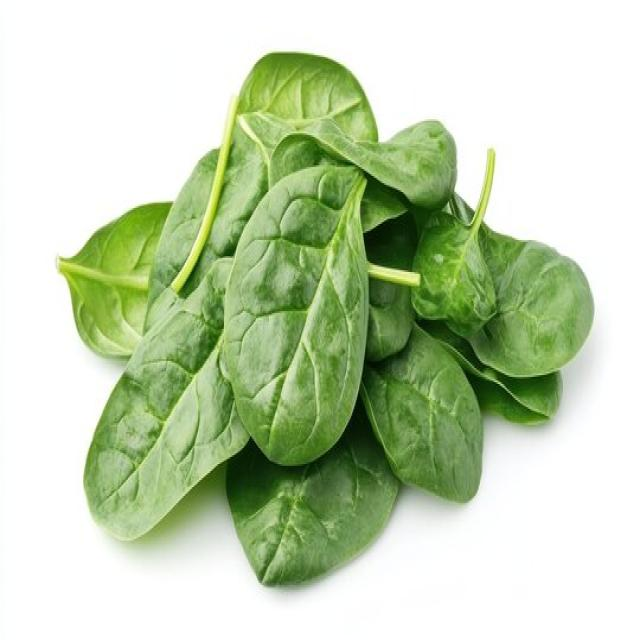Spinach: (56, 48, 594, 588)
